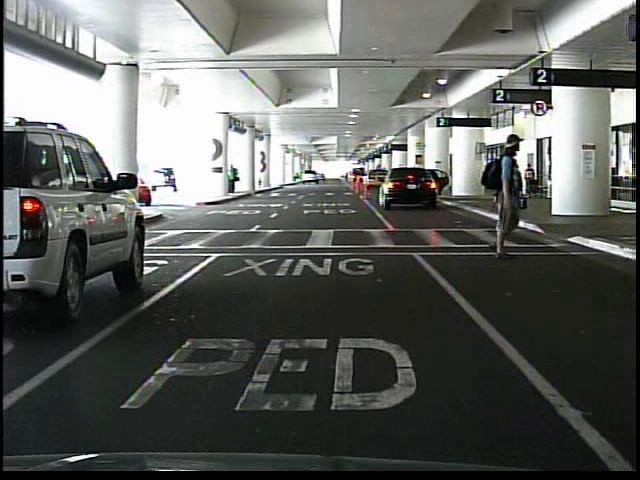person: (469, 138, 549, 260), (509, 162, 526, 209), (524, 163, 535, 198), (228, 164, 238, 195), (501, 157, 502, 207)
